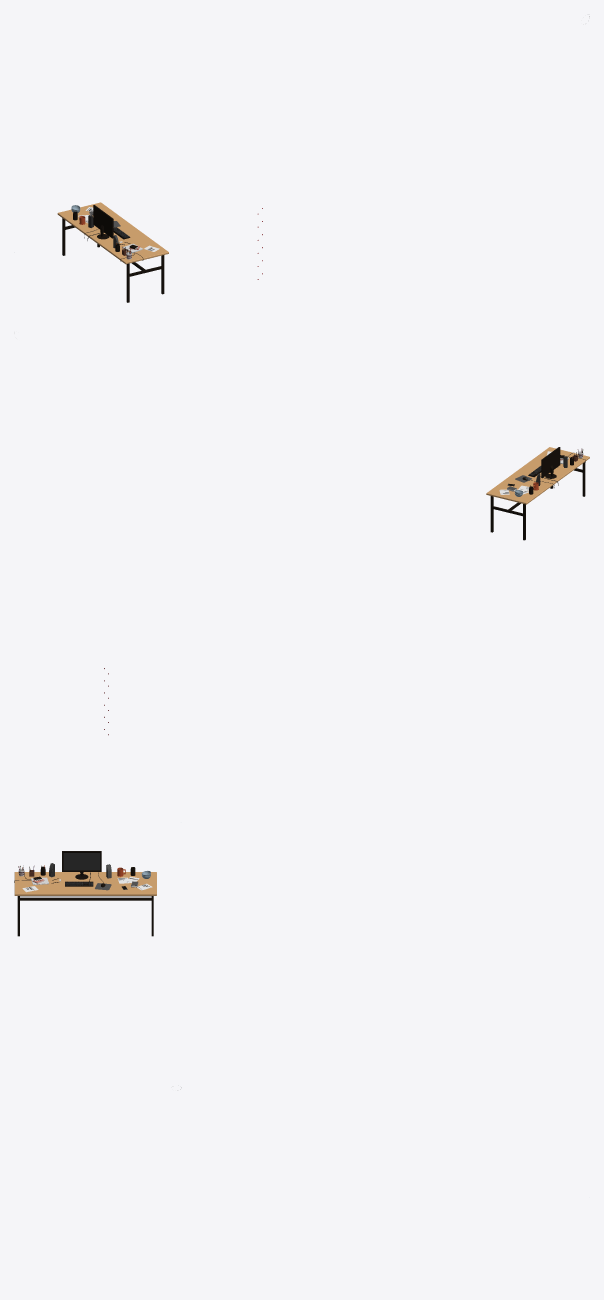
File: computer3.gltf
The picture shows the model from 3 angles, top to bottom: view 1: azimuth 30°, elevation 25°; view 2: azimuth 150°, elevation 25°; view 3: azimuth 270°, elevation 25°; orthographic projection. The views are drawn at different scales.
Parts seen in each view (by area): view 1: Desk, PC_Monitor; view 2: Desk; view 3: Desk, PC_Monitor.
Boxes of the visible parts, x1=… form: Desk: x1=57, y1=202, x2=168, y2=302; PC_Monitor: x1=93, y1=205, x2=113, y2=239; Desk: x1=486, y1=447, x2=589, y2=540; Desk: x1=14, y1=872, x2=156, y2=936; PC_Monitor: x1=62, y1=851, x2=101, y2=879.
Size of the model in its own units: 1300 by 680 by 1144.
Materials: 22 (17 with a texture image).
